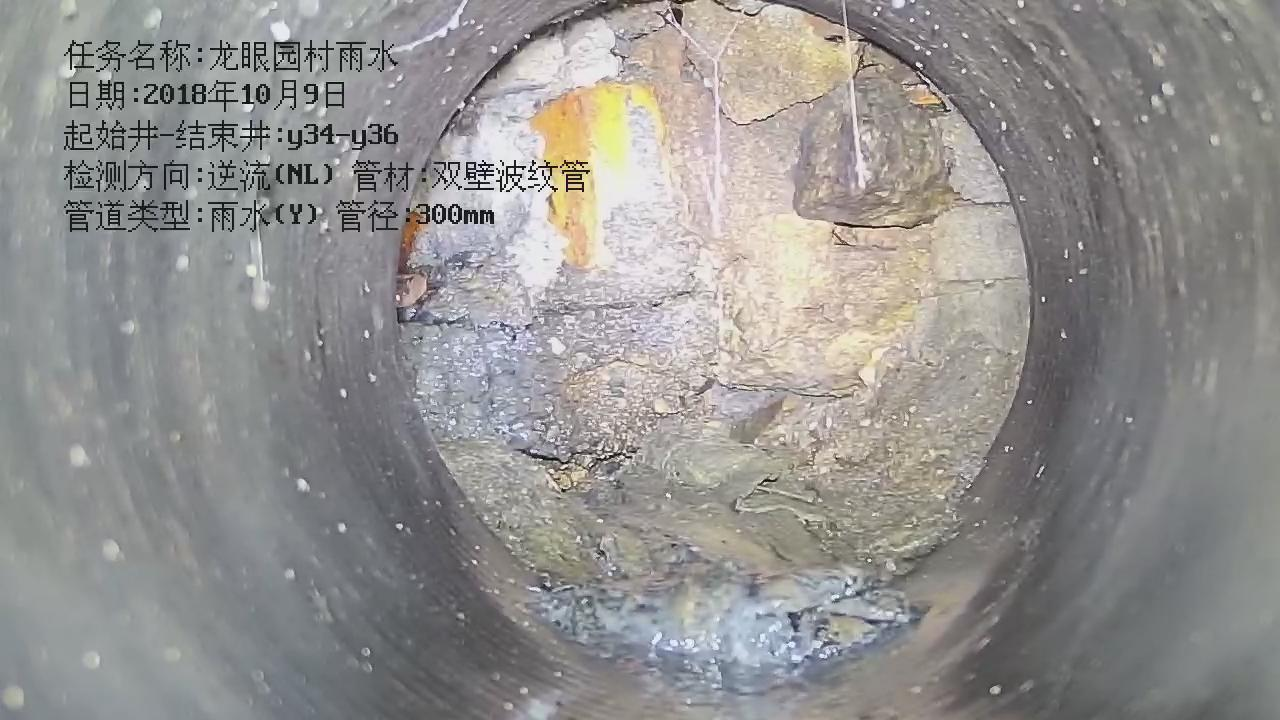CQBG: (397, 0, 1029, 585)
